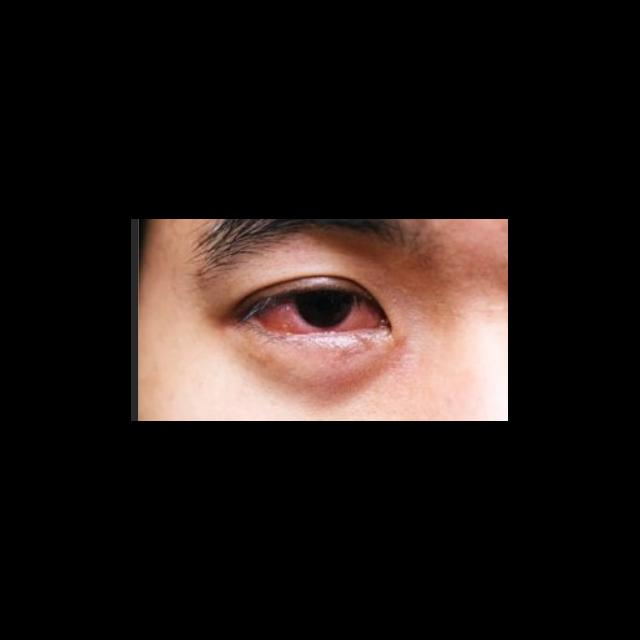eye: (258, 288, 381, 332)
iris: (297, 291, 354, 328)
